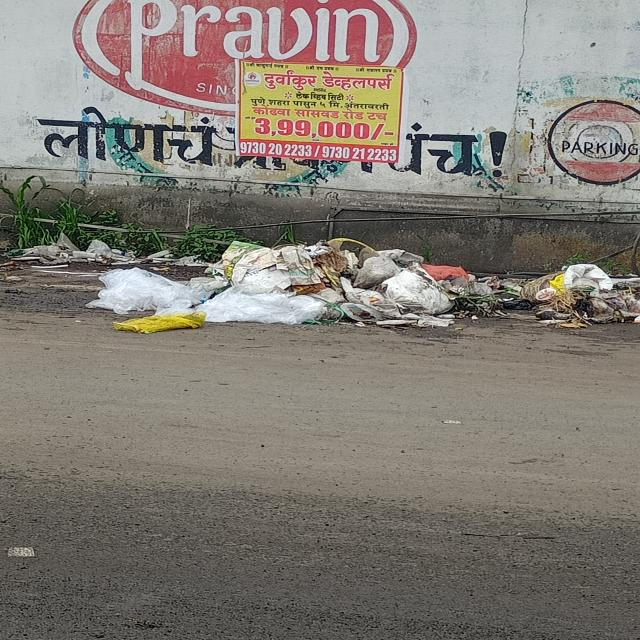garbage: (82, 235, 640, 342)
